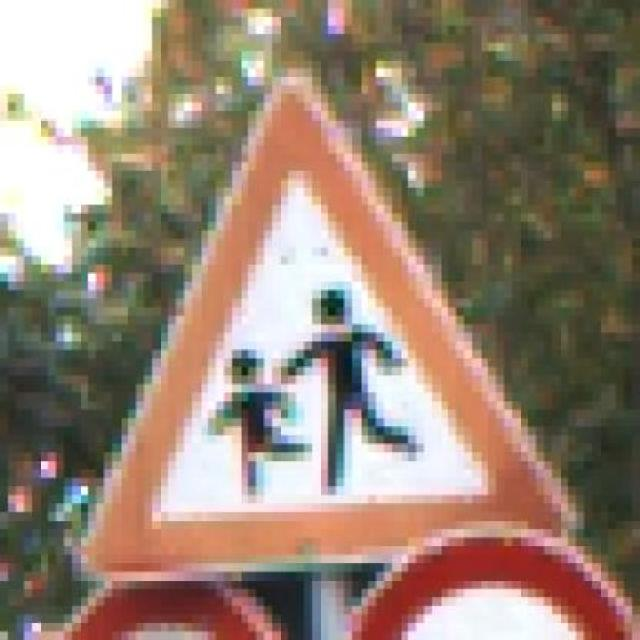Beware of children: (71, 68, 584, 572)
